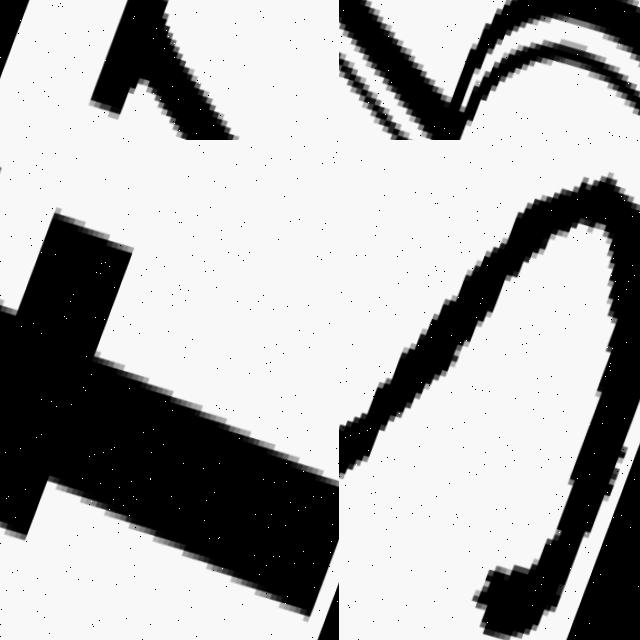5: (339, 0, 640, 140)
F: (0, 140, 339, 640)
S: (339, 140, 640, 640)
Y: (0, 0, 339, 140)
